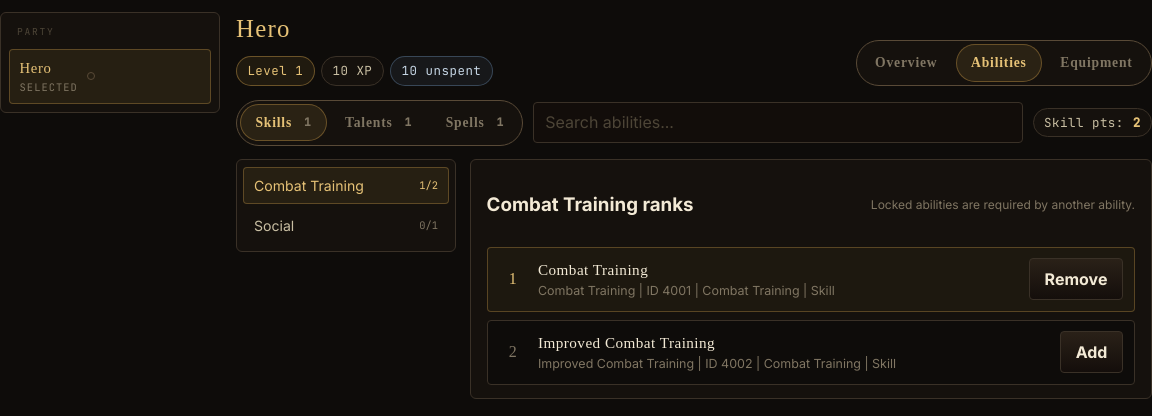
CharacterPanel abilities tab › changes the rank ladder when a tree is selected
Click the button "Talents 1". click: click(379, 123)
box: [330,104,427,141]
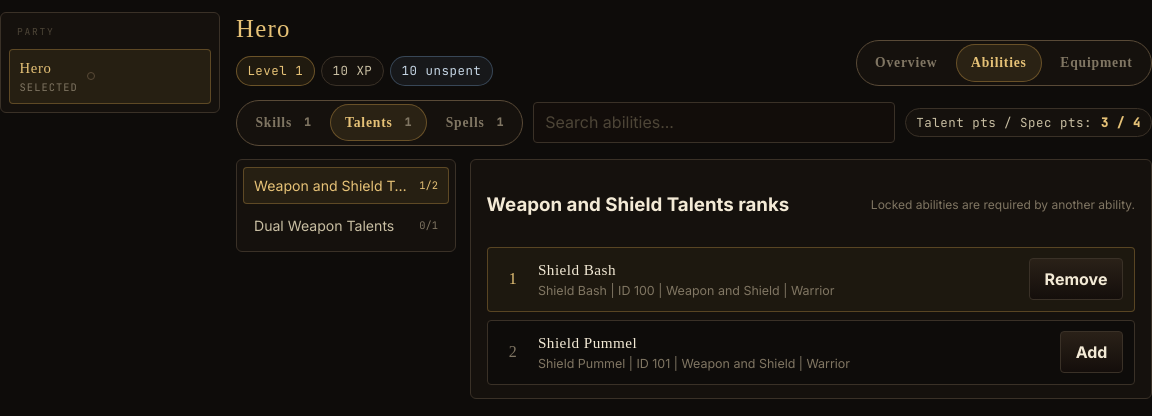
Now the heading "Weapon and Shield Talents ranks" is shown, box [487,192,789,219]
Click the option "Dual Weapon Talents 0/1". click: click(346, 225)
box: [243,207,449,244]
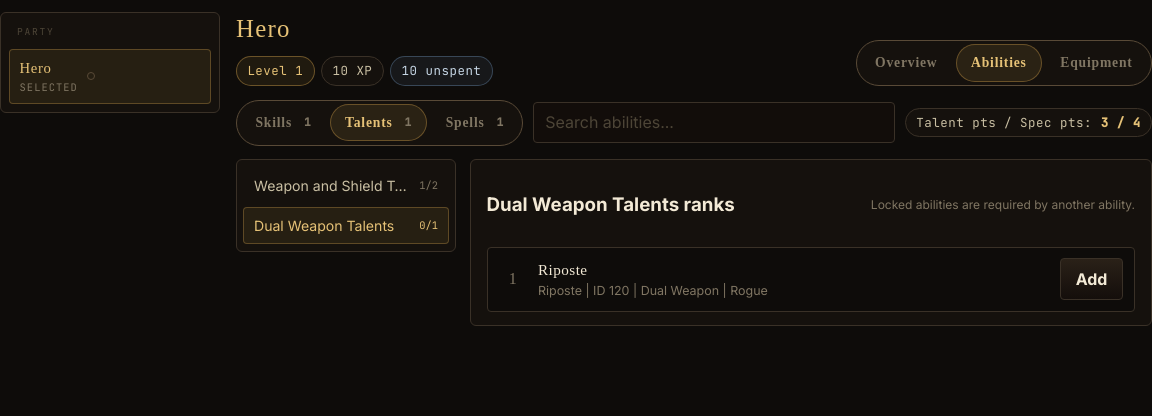
Now the heading "Dual Weapon Talents ranks" is shown, box [487,192,735,219]
Now the text "Riposte" is shown, box [538,261,588,278]
Now the text "Shield Bash" is gone
